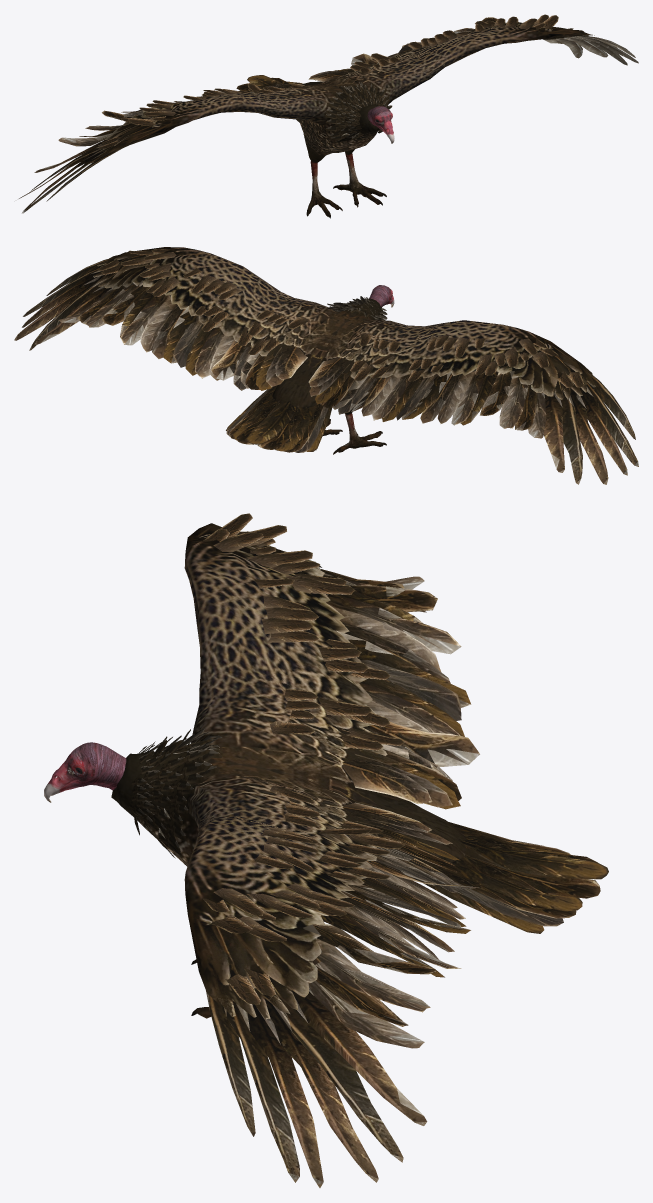
The model's file is Vulture.fbx.
3 renders of one model, top to bottom at view 1: azimuth 30°, elevation 25°; view 2: azimuth 150°, elevation 25°; view 3: azimuth 270°, elevation 25°, orthographic. The views are drawn at different scales.
Parts seen in each view (by area): view 1: sm_2_0_0, sm_1_0_0; view 2: sm_2_0_0, sm_1_0_0; view 3: sm_2_0_0, sm_1_0_0.
Part boxes in pixels (x1,y1,x2,y2): sm_2_0_0: (19, 14, 638, 218); sm_1_0_0: (367, 106, 394, 143); sm_2_0_0: (14, 247, 638, 484); sm_1_0_0: (369, 285, 394, 307); sm_2_0_0: (111, 513, 608, 1187); sm_1_0_0: (44, 742, 126, 802).
Bounding box in the file's own units: 177 × 39.07 × 70.37.
2 materials, 2 textured.
